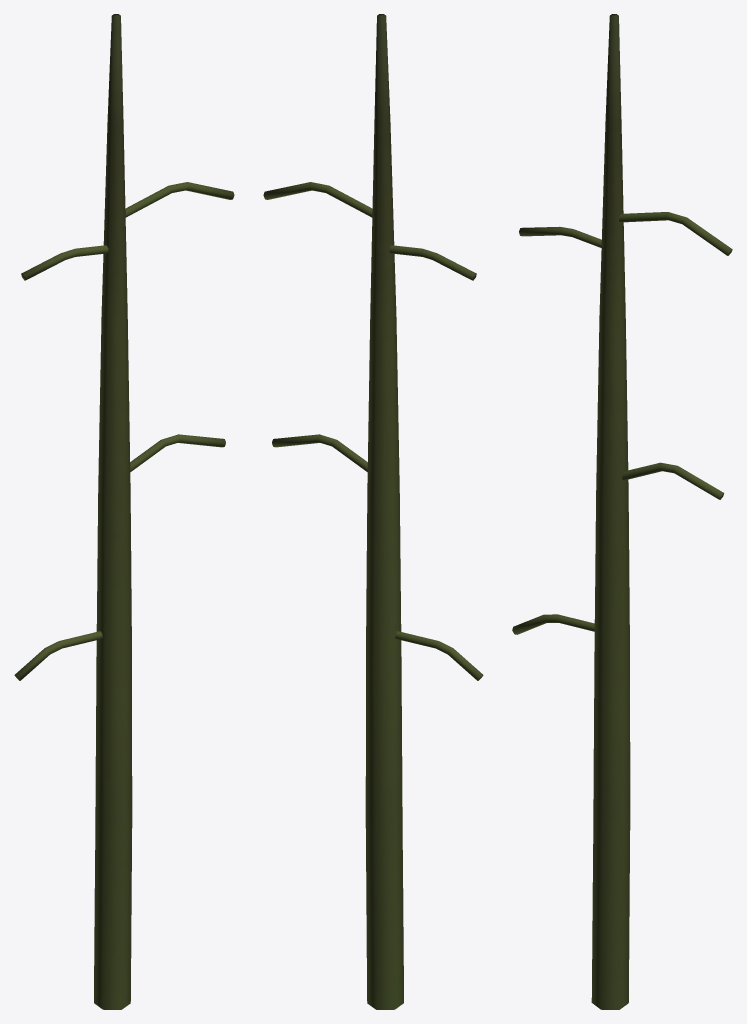
Rendered from Tomato_Plant.fbx.
3 renders of one model, left to right at view 1: azimuth 30°, elevation 25°; view 2: azimuth 150°, elevation 25°; view 3: azimuth 330°, elevation 25°, orthographic.
Parts seen in each view (by area): view 1: Tomato_Plant; view 2: Tomato_Plant; view 3: Tomato_Plant.
Boxes of the visible parts, x1,y1,x2,y2 form: Tomato_Plant: (14, 14, 234, 1009); Tomato_Plant: (263, 14, 483, 1009); Tomato_Plant: (512, 14, 732, 1009).
Size of the model in its own units: 37.9 by 164 by 5.57.
